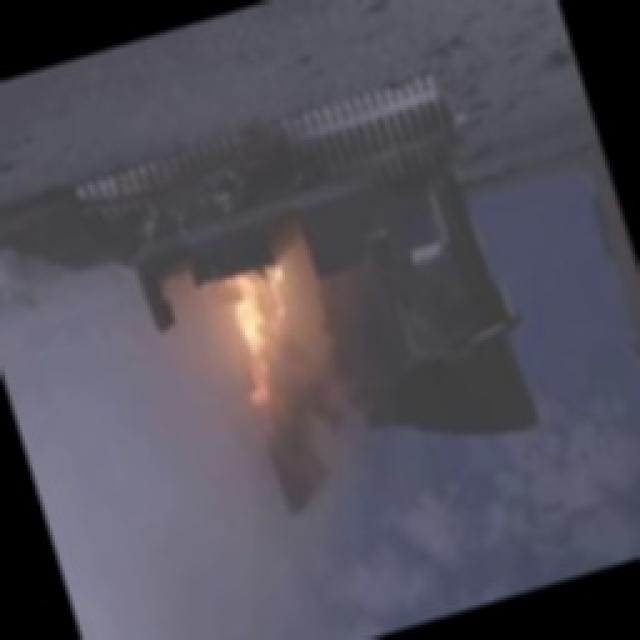fire: (188, 252, 350, 436)
smoke: (18, 367, 276, 640)
